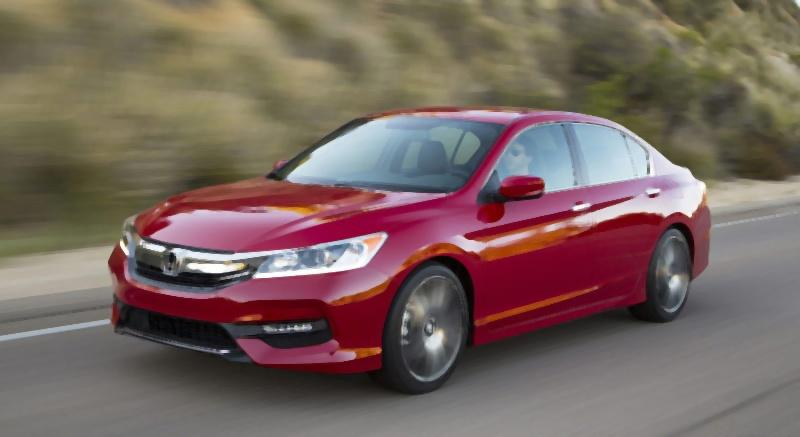Car hood: (132, 177, 442, 251)
Fender - -F-L-: (391, 187, 490, 375)
Fender - -R-L-: (641, 142, 703, 297)
Front bumper: (104, 245, 390, 378)
Headlight - -L-: (251, 231, 390, 282)
Headlight - -R-: (118, 209, 141, 258)
Passenger-s door - -F-L-: (479, 99, 596, 359)
Passenger-s door - -R-L-: (564, 102, 661, 333)
Side bumper - -L-: (470, 276, 655, 365)
Side mirror - -L-: (495, 169, 545, 205)
